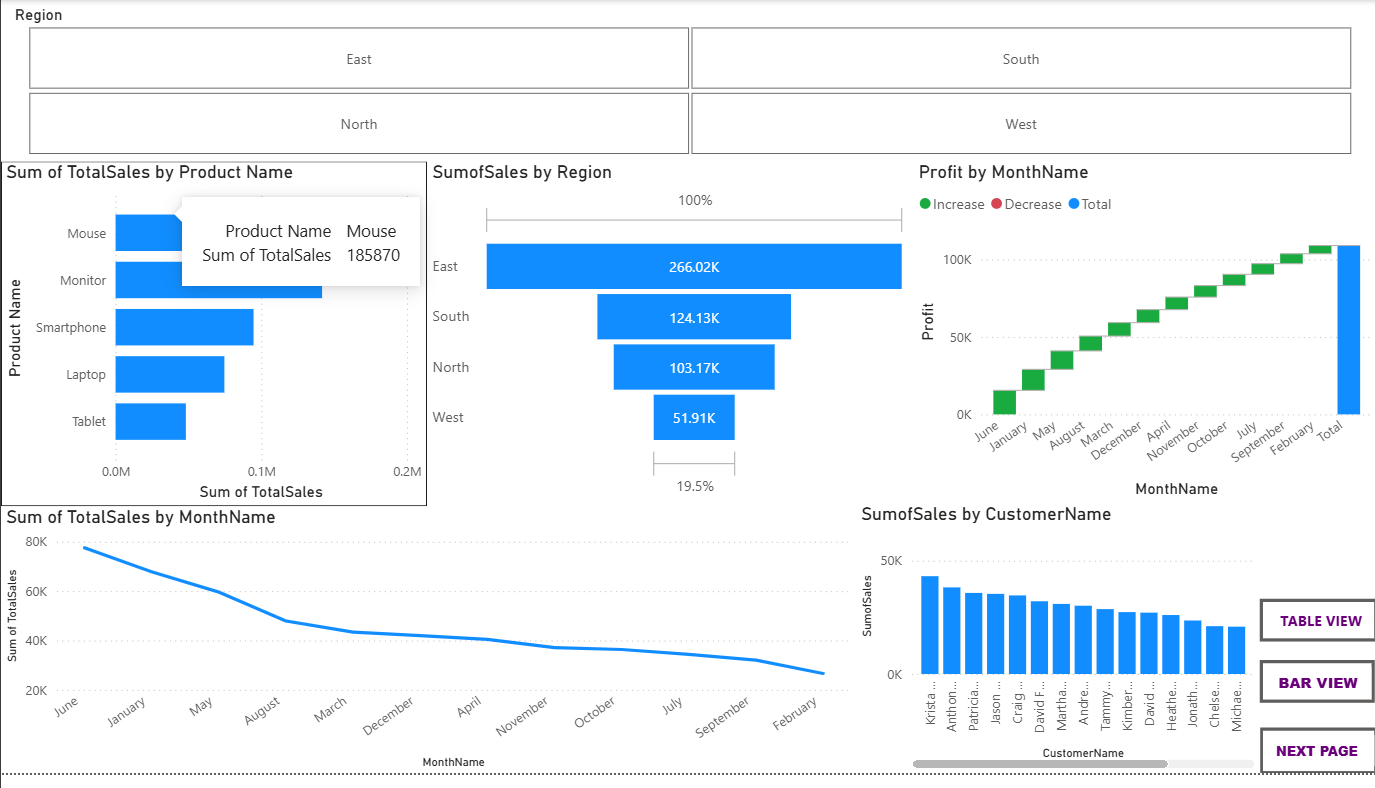

Layout of this report page (visuals, bound fields, positions):
{"tool":"powerbi","page":{"name":"Page 1","canvas":[1280,720],"ordinal":0},"visuals":[{"type":"actionButton","box":[0,0,100,40],"z":0},{"type":"barChart","fields":{"Category":["Fact_Sales.Product Name"],"Y":["Sum(Fact_Sales.TotalSales)"]},"box":[0,150.5,396.8,320.9],"z":1000},{"type":"lineChart","fields":{"Y":["Sum(Fact_Sales.TotalSales)"],"Category":["Dim_Date.MonthName"]},"box":[0,471.5,794.9,248.8],"z":2000},{"type":"funnel","fields":{"Category":["Dim_Customers.Region"],"Y":["Fact_Sales.SumofSales"]},"box":[396.8,150.5,451.6,317.2],"z":3000},{"type":"waterfallChart","fields":{"Category":["Dim_Date.MonthName"],"Y":["Fact_Sales.Profit"]},"box":[848.4,150.5,431.7,317.2],"z":4000},{"type":"slicer","fields":{"Values":["Dim_Customers.Region"]},"box":[0,0,1280,150.5],"z":5000},{"type":"actionButton","box":[1170.6,676.7,109.5,43.5],"z":6000},{"type":"textbox","box":[1174.3,684.2,103.2,28.6],"z":7000},{"type":"columnChart","fields":{"Category":["Dim_Customers.CustomerName"],"Y":["Fact_Sales.SumofSales"]},"box":[794.9,467.7,375.7,252.5],"z":8000},{"type":"actionButton","box":[1170.6,614.5,107,39.8],"z":10000},{"type":"textbox","box":[1175.5,620.7,99.5,28.6],"z":11000},{"type":"textbox","box":[1179.3,562.3,98.3,28.6],"z":12000},{"type":"actionButton","box":[1170.6,557.3,109.5,39.8],"z":13000}]}

Visuals, with their boxes in screenshot pixels (x1, y1, x2, y2), scaled from the page's 1280x720 canvas onto the 1375x788 screenshot:
actionButton: locate(0, 0, 107, 44)
barChart - Fact_Sales.Product Name x Sum(Fact_Sales.TotalSales): locate(0, 165, 426, 516)
lineChart - Sum(Fact_Sales.TotalSales) x Dim_Date.MonthName: locate(0, 516, 854, 787)
funnel - Dim_Customers.Region x Fact_Sales.SumofSales: locate(426, 165, 911, 512)
waterfallChart - Dim_Date.MonthName x Fact_Sales.Profit: locate(911, 165, 1374, 512)
slicer - Dim_Customers.Region: locate(0, 0, 1374, 165)
actionButton: locate(1257, 741, 1374, 787)
textbox: locate(1261, 749, 1372, 780)
columnChart - Dim_Customers.CustomerName x Fact_Sales.SumofSales: locate(854, 512, 1257, 787)
actionButton: locate(1257, 673, 1372, 716)
textbox: locate(1263, 679, 1370, 711)
textbox: locate(1267, 615, 1372, 647)
actionButton: locate(1257, 610, 1374, 653)
